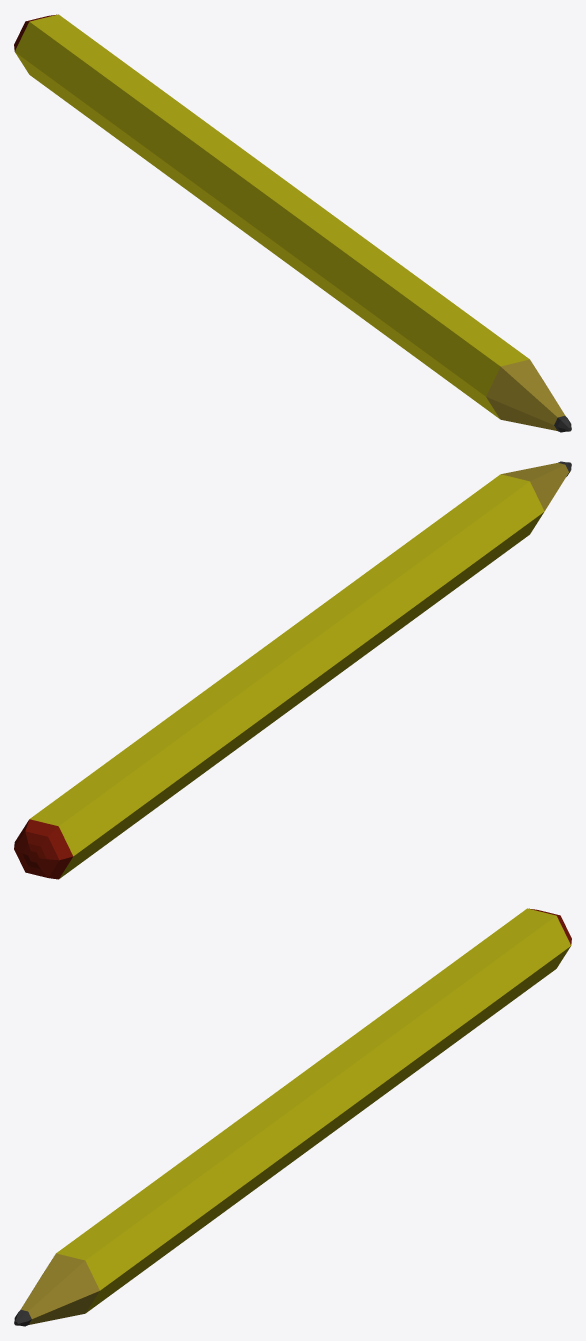
The model's file is Llapiz.FBX.
The picture shows the model from 3 angles, top to bottom: view 1: azimuth 30°, elevation 25°; view 2: azimuth 150°, elevation 25°; view 3: azimuth 330°, elevation 25°; orthographic projection.
Parts seen in each view (by area): view 1: Cylinder001; view 2: Cylinder001; view 3: Cylinder001.
Boxes of the visible parts, x1,y1,x2,y2 form: Cylinder001: (14,14,571,432); Cylinder001: (14,461,571,879); Cylinder001: (14,908,571,1326).
Size of the model in its own units: 37.82 by 32.76 by 598.
